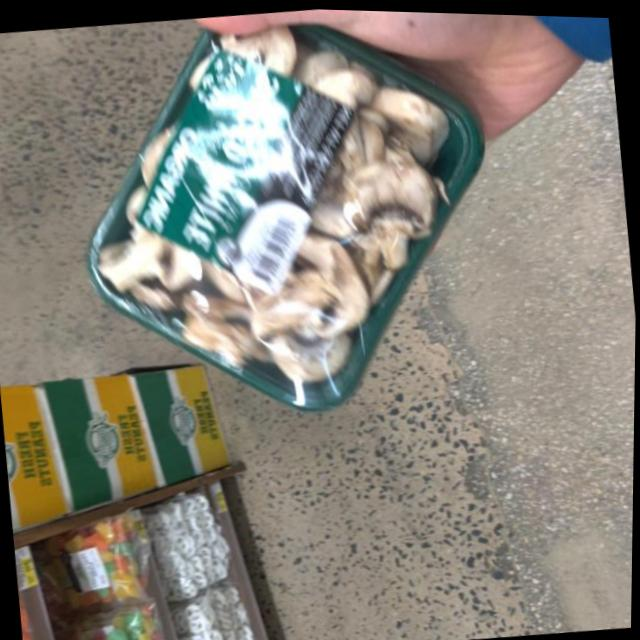Mushrooms: (71, 2, 491, 432)
